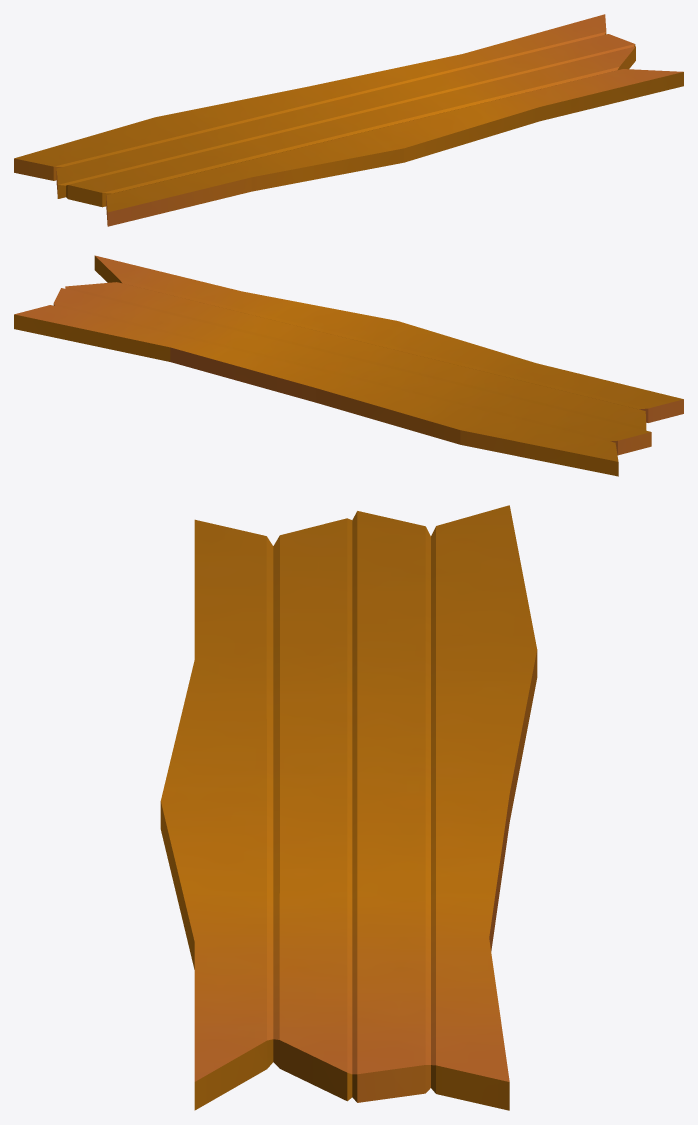
File: Broken_Wood.fbx
The picture shows the model from 3 angles, top to bottom: view 1: azimuth 30°, elevation 25°; view 2: azimuth 150°, elevation 25°; view 3: azimuth 270°, elevation 25°; orthographic projection. The views are drawn at different scales.
Visible parts, largest first — view 1: Broken Wood; view 2: Broken Wood; view 3: Broken Wood.
Boxes of the visible parts, left/top/right/bottom form: Broken Wood: left=14, top=14, right=683, bottom=226; Broken Wood: left=14, top=255, right=683, bottom=476; Broken Wood: left=160, top=505, right=537, bottom=1110.
Size of the model in its own units: 57.72 by 1.34 by 15.91.
